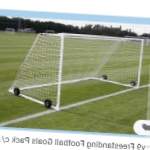goals: (10, 31, 145, 110)
